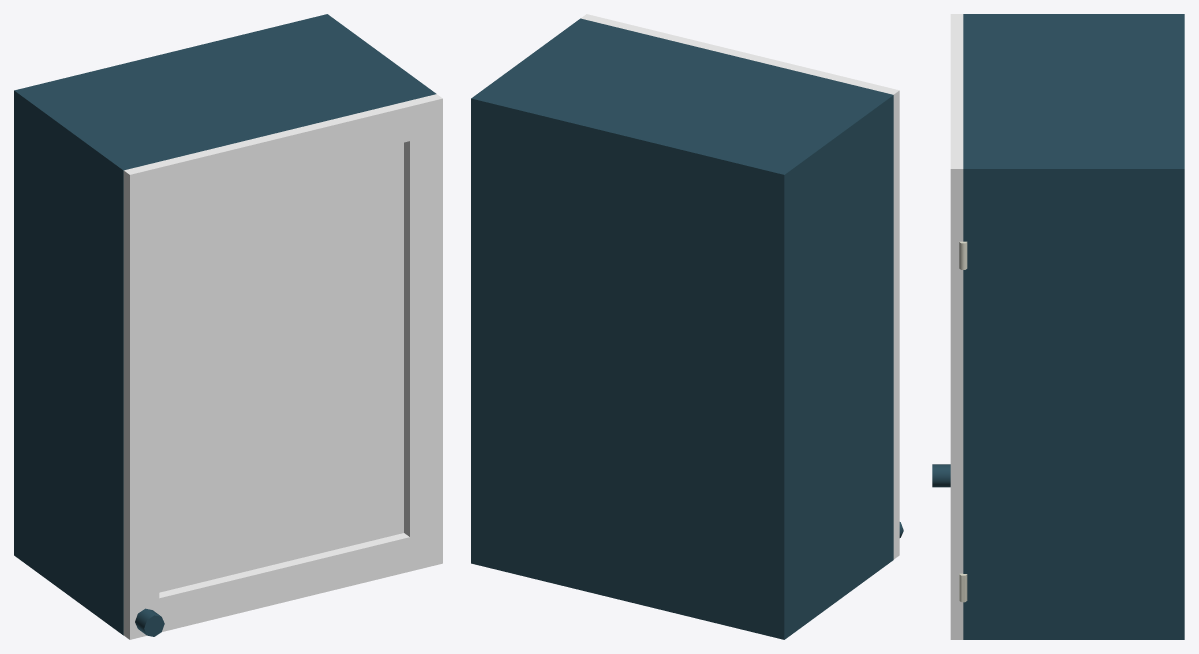
Rendered from Kitchen_F.fbx.
3 renders of one model, left to right at view 1: azimuth 30°, elevation 25°; view 2: azimuth 150°, elevation 25°; view 3: azimuth 270°, elevation 25°, orthographic.
Parts seen in each view (by area): view 1: Kitchen_F_Door, Kitchen_F; view 2: Kitchen_F, Kitchen_F_Door; view 3: Kitchen_F, Kitchen_F_Door.
Part boxes in pixels (x1,y1,x2,y2): Kitchen_F_Door: [123, 94, 442, 639]; Kitchen_F: [14, 14, 436, 635]; Kitchen_F: [471, 18, 893, 639]; Kitchen_F_Door: [581, 14, 903, 559]; Kitchen_F: [963, 14, 1184, 639]; Kitchen_F_Door: [932, 14, 967, 639].
Size of the model in its own units: 50.56 by 70.91 by 34.45.
